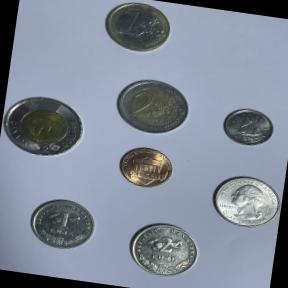1 Euro: (98, 0, 178, 57)
2 Euro: (110, 72, 194, 140)
Canda-10cent-: (218, 103, 278, 151)
Canda-2Dollar-: (0, 87, 91, 162)
Croatia-2Kune-: (122, 215, 208, 283)
US-1cent-: (111, 140, 180, 192)
US-25cent-: (204, 168, 284, 233)
